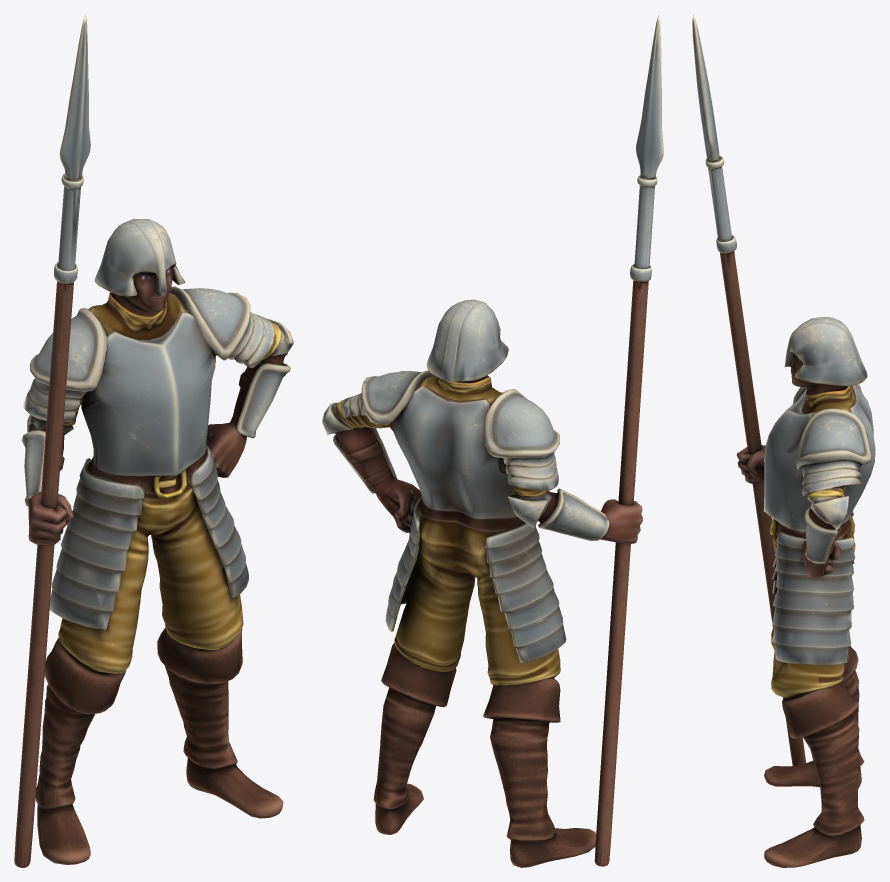
Rendered from MZ4250 - NPC Guard with spear Gold.glb.
The picture shows the model from 3 angles, left to right: view 1: azimuth 30°, elevation 25°; view 2: azimuth 150°, elevation 25°; view 3: azimuth 270°, elevation 25°; orthographic projection. The views are drawn at different scales.
Visible parts, largest first — view 1: body_low.001, spear_low.001; view 2: body_low.001, spear_low.001; view 3: body_low.001, spear_low.001.
Part boxes in pixels (left/top/right/bottom): body_low.001: left=21, top=219, right=293, bottom=864; spear_low.001: left=14, top=14, right=90, bottom=867; body_low.001: left=322, top=299, right=642, bottom=867; spear_low.001: left=594, top=15, right=663, bottom=866; body_low.001: left=736, top=317, right=875, bottom=867; spear_low.001: left=692, top=14, right=805, bottom=765.
Bounding box in the file's own units: 3.43 × 9.63 × 2.11.
1 material, 1 textured.
